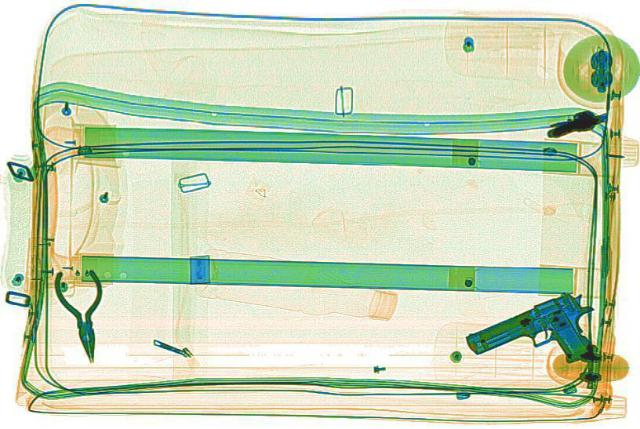Gun: (453, 286, 629, 385)
Pliers: (51, 267, 118, 363)
